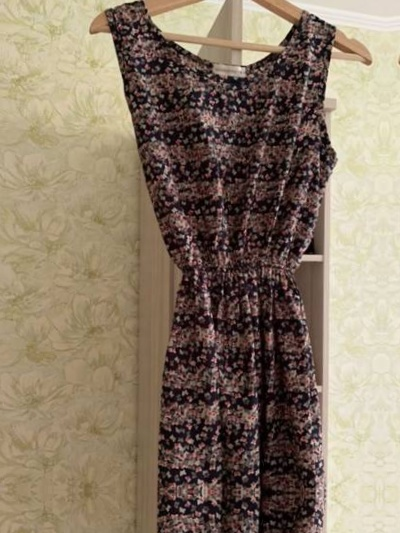Dress: (74, 0, 352, 491), (67, 494, 345, 533)
